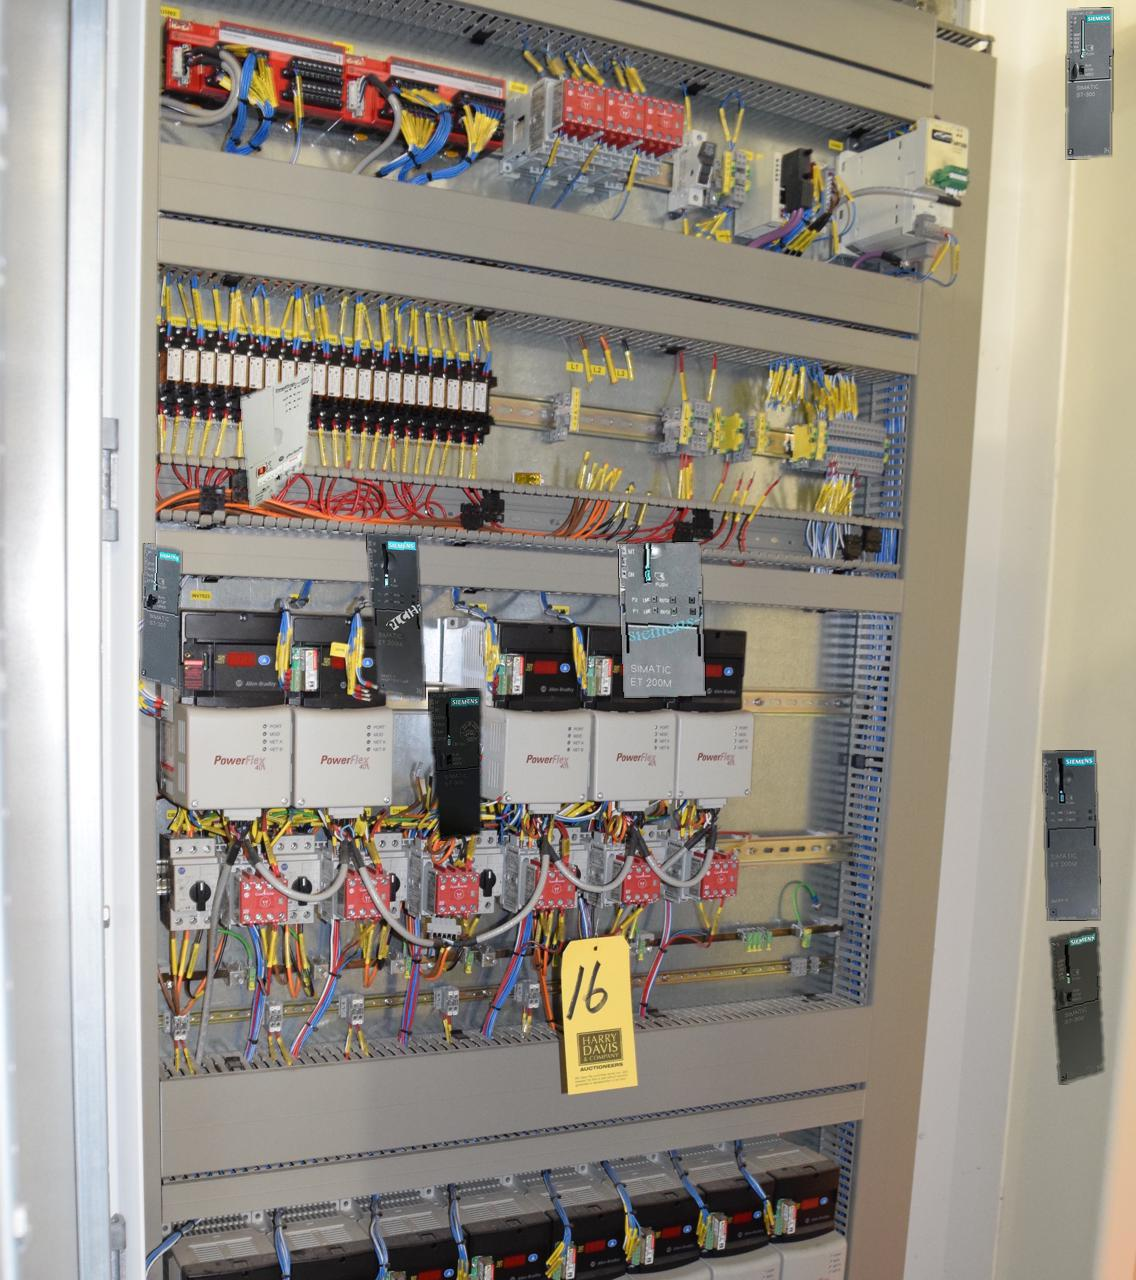AllenBradley: (240, 362, 313, 508)
Siemens: (1050, 927, 1103, 1084), (428, 689, 481, 839), (1067, 8, 1112, 158), (141, 543, 180, 688)
